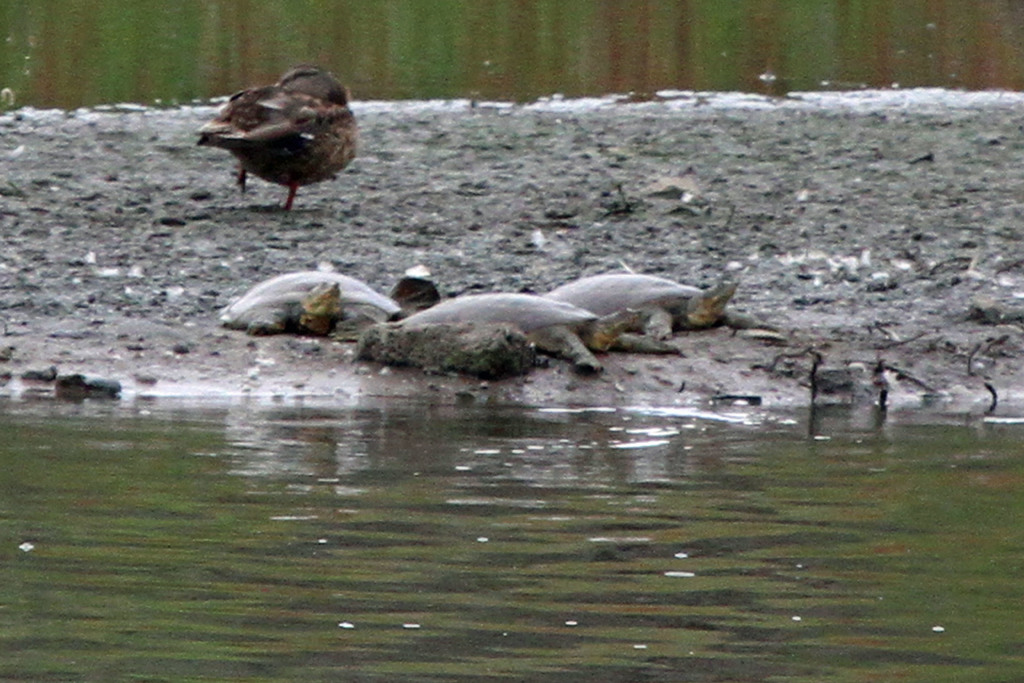Sea turtles: (386, 285, 676, 376), (540, 271, 775, 345), (216, 267, 403, 340)
